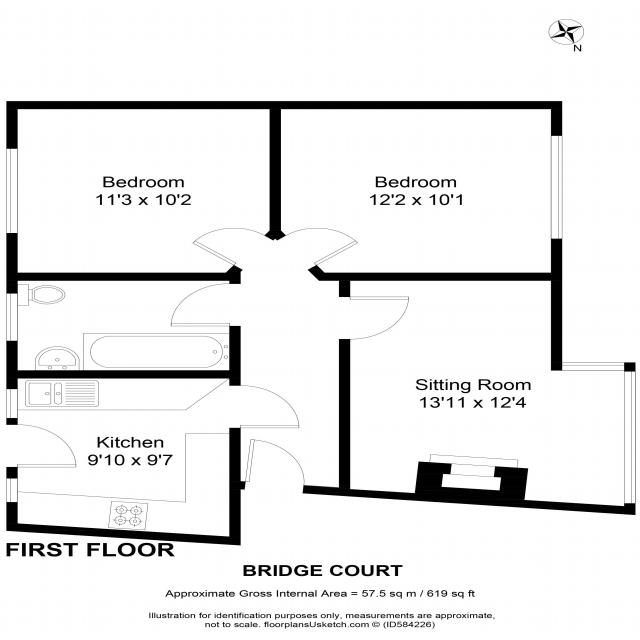DOOR: (182, 221, 277, 272), (240, 436, 310, 494), (276, 225, 368, 269), (7, 421, 84, 472), (339, 294, 414, 344), (167, 280, 241, 329), (230, 383, 306, 430)
ROOM: (340, 272, 636, 515), (5, 369, 312, 546), (268, 101, 562, 281), (6, 101, 287, 281)
WINDOW: (620, 369, 639, 507), (546, 131, 567, 244), (3, 145, 23, 235), (555, 358, 628, 375), (5, 292, 20, 342), (4, 387, 20, 420), (4, 477, 20, 505)
